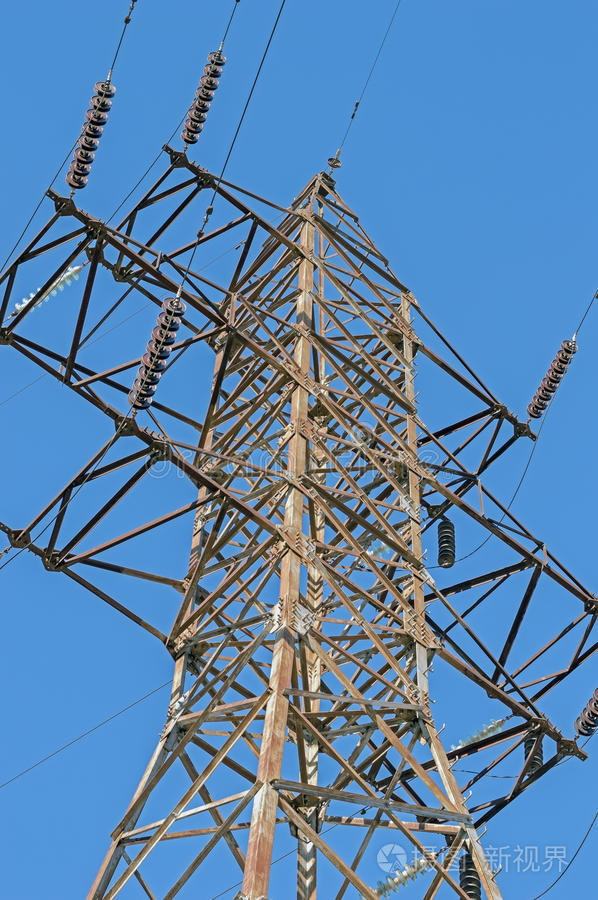insulator: (128, 296, 187, 407), (67, 80, 113, 189), (178, 49, 225, 145), (528, 342, 580, 415), (9, 260, 80, 312), (435, 521, 464, 569), (453, 852, 482, 900), (577, 689, 595, 736)
